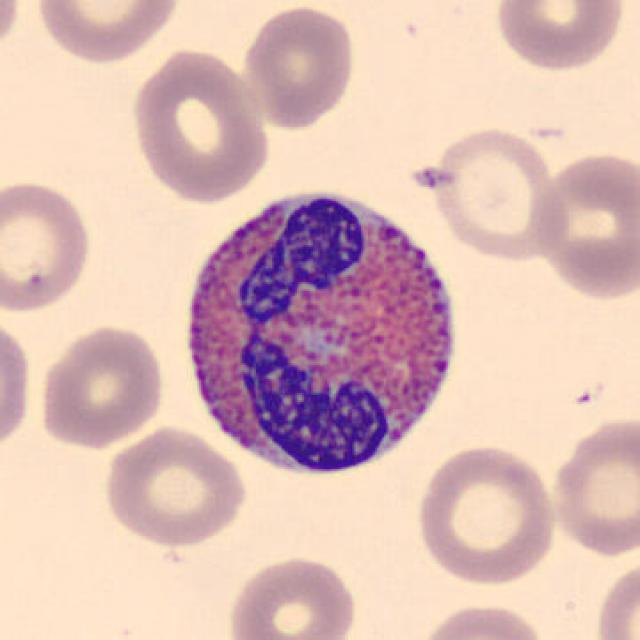Eosinophil: (172, 167, 473, 492)
RBC: (126, 44, 274, 205), (412, 441, 562, 589), (414, 123, 571, 263), (100, 423, 250, 548), (34, 321, 169, 451), (530, 146, 638, 304), (240, 2, 359, 132), (0, 174, 96, 316), (546, 412, 638, 559), (224, 552, 361, 640), (491, 0, 629, 74), (32, 0, 185, 65), (416, 599, 549, 640), (0, 311, 36, 458), (592, 555, 638, 640), (0, 0, 23, 71)
